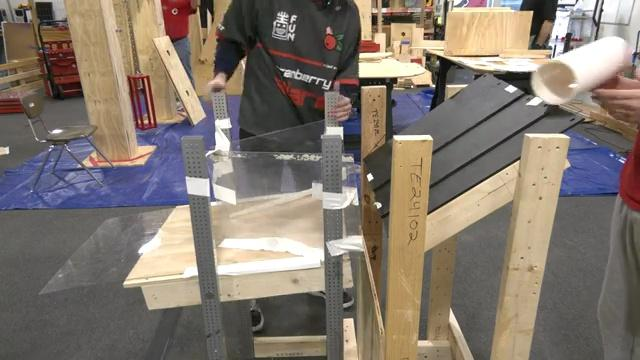CORAL: (529, 34, 632, 105)
